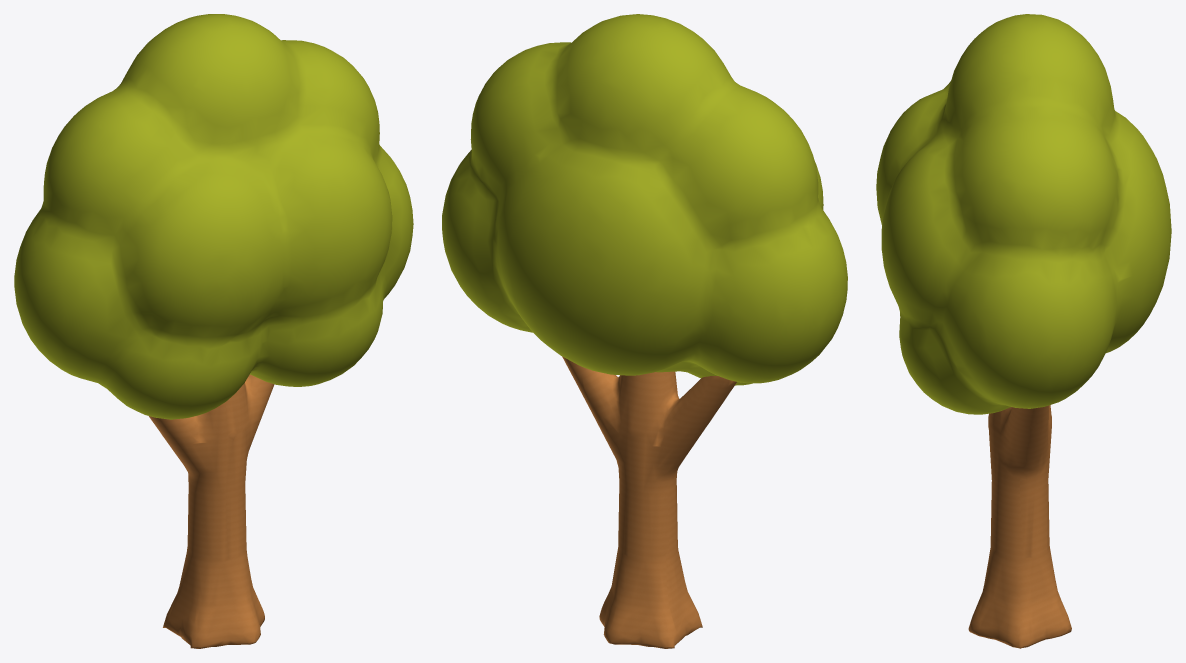
File: lime_round_tree.glb
3 renders of one model, left to right at view 1: azimuth 30°, elevation 25°; view 2: azimuth 150°, elevation 25°; view 3: azimuth 270°, elevation 25°, orthographic.
Parts seen in each view (by area): view 1: rounded_canopy, trunk_and_branches; view 2: rounded_canopy, trunk_and_branches; view 3: rounded_canopy, trunk_and_branches.
Boxes of the visible parts, x1,y1,x2,y2 form: rounded_canopy: [14, 14, 413, 419]; trunk_and_branches: [149, 374, 274, 648]; rounded_canopy: [442, 14, 847, 385]; trunk_and_branches: [562, 356, 736, 648]; rounded_canopy: [876, 14, 1171, 414]; trunk_and_branches: [968, 405, 1071, 648].
Size of the model in its own units: 1.57 by 2.4 by 1.07.
2 materials, 1 textured.
